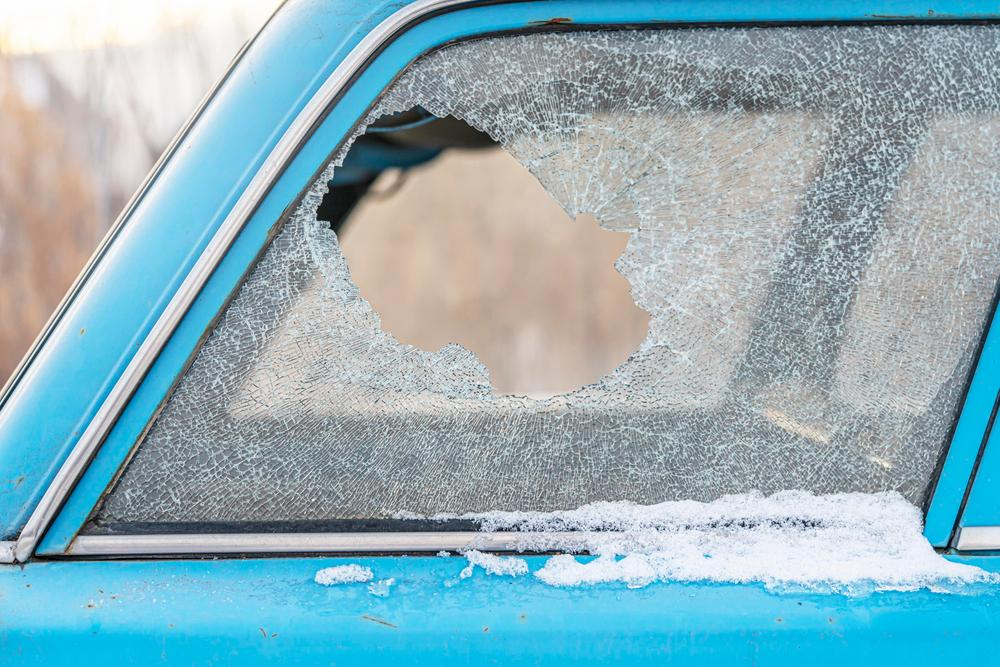glass shatter: (82, 20, 1000, 533)
